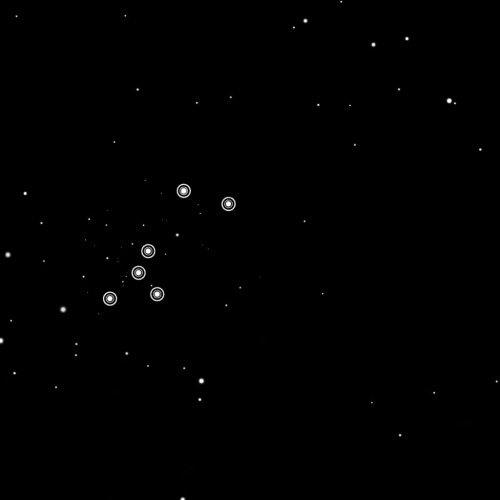canis_major: (96, 176, 242, 312)
